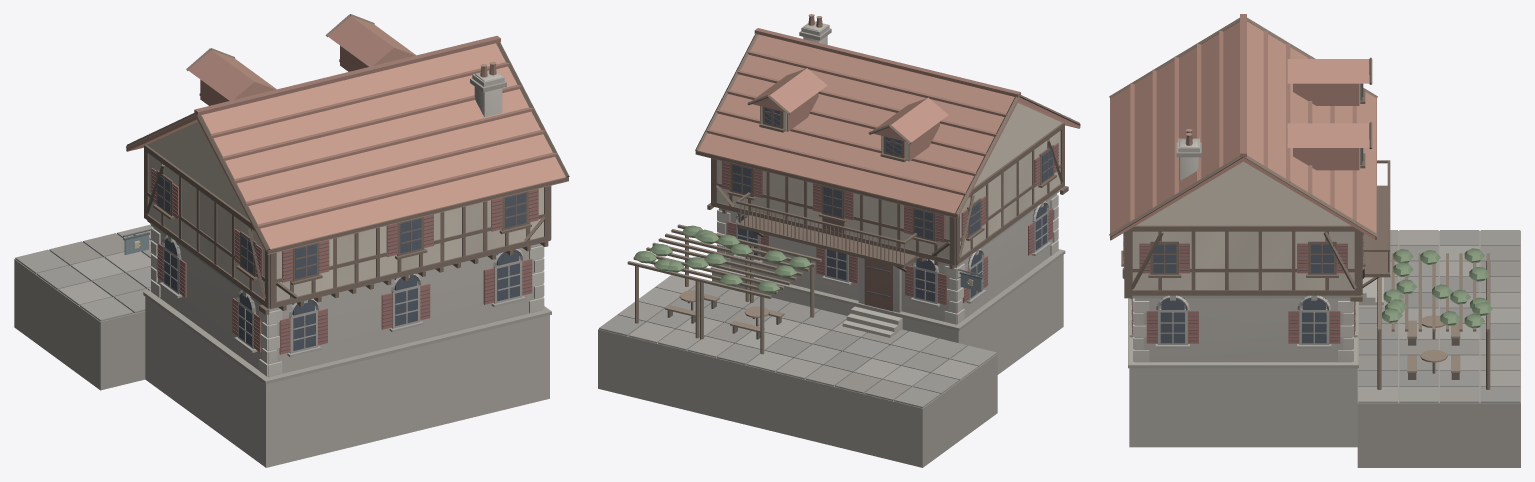
File: tavern_4.gltf
3 views of the same model, side by side, from view 1: azimuth 30°, elevation 25°; view 2: azimuth 150°, elevation 25°; view 3: azimuth 270°, elevation 25° (orthographic). The views are drawn at different scales.
Visible parts, largest first — view 1: Body; view 2: Body; view 3: Body.
Part boxes in pixels (box(x1,y1,x2,y2)): Body: box(14, 14, 569, 467); Body: box(598, 14, 1080, 467); Body: box(1109, 14, 1520, 467).
Size of the model in its own units: 15 by 12.22 by 15.15.
